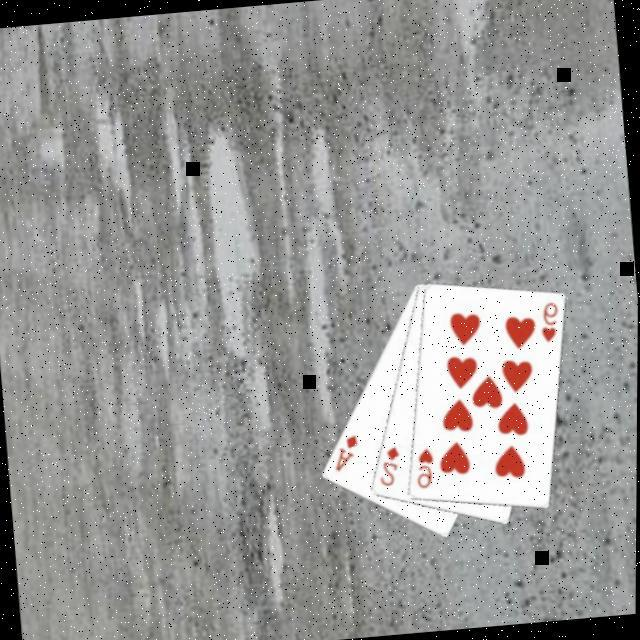2D: (374, 441, 404, 488)
9H: (409, 442, 437, 490), (534, 296, 562, 344)
AD: (328, 429, 362, 473)
